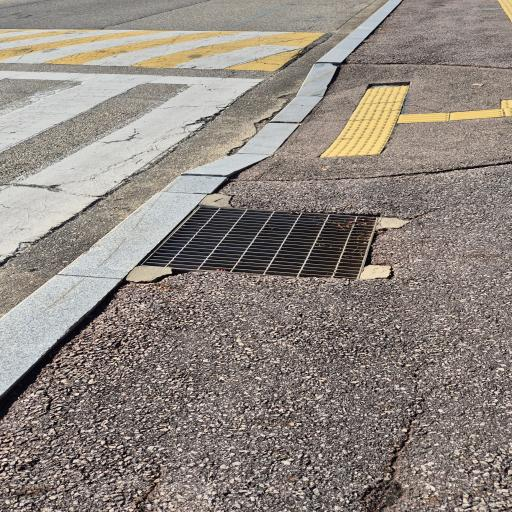drain: (142, 206, 379, 280)
